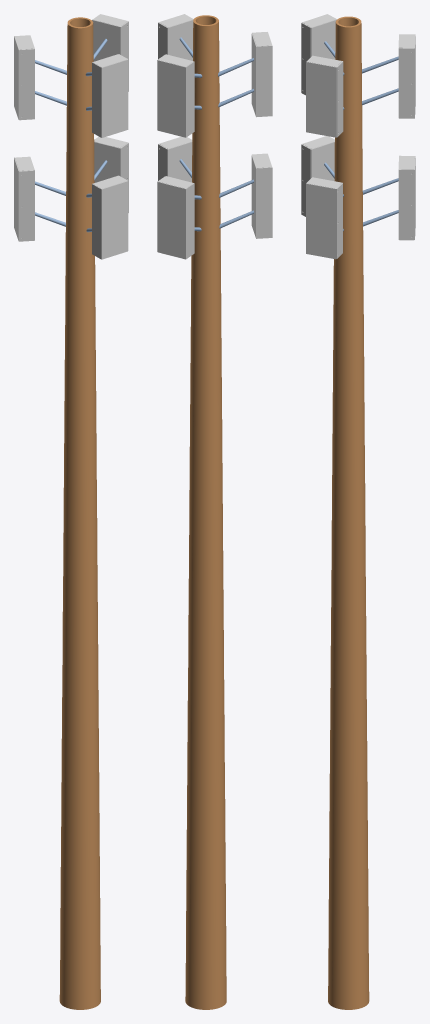
The model's file is signal-tower.gltf.
3 renders of one model, left to right at view 1: azimuth 30°, elevation 25°; view 2: azimuth 210°, elevation 25°; view 3: azimuth 330°, elevation 25°, orthographic.
Parts seen in each view (by area): view 1: 连接的实心几何图形 [216728], 低压开关板 - 非设备柜 400mmx652mm - 500 [216873], 低压开关板 - 非设备柜 400mmx652mm - 500 [216828], 低压开关板 - 非设备柜 400mmx652mm - 500 [216811], 低压开关板 - 非设备柜 400mmx652mm - 500 [216857], 低压开关板 - 非设备柜 400mmx652mm - 500 [216826], 低压开关板 - 非设备柜 400mmx652mm - 500 [216872]; view 2: 连接的实心几何图形 [216728], 低压开关板 - 非设备柜 400mmx652mm - 500 [216826], 低压开关板 - 非设备柜 400mmx652mm - 500 [216872], 低压开关板 - 非设备柜 400mmx652mm - 500 [216811], 低压开关板 - 非设备柜 400mmx652mm - 500 [216857], 低压开关板 - 非设备柜 400mmx652mm - 500 [216828], 低压开关板 - 非设备柜 400mmx652mm - 500 [216873]; view 3: 连接的实心几何图形 [216728], 低压开关板 - 非设备柜 400mmx652mm - 500 [216828], 低压开关板 - 非设备柜 400mmx652mm - 500 [216873], 低压开关板 - 非设备柜 400mmx652mm - 500 [216811], 低压开关板 - 非设备柜 400mmx652mm - 500 [216826], 低压开关板 - 非设备柜 400mmx652mm - 500 [216872], 低压开关板 - 非设备柜 400mmx652mm - 500 [216857].
Boxes of the visible parts, left/top/right/bottom form: 连接的实心几何图形 [216728]: left=59, top=17, right=100, bottom=1009; 低压开关板 - 非设备柜 400mmx652mm - 500 [216873]: left=92, top=175, right=128, bottom=259; 低压开关板 - 非设备柜 400mmx652mm - 500 [216828]: left=92, top=54, right=128, bottom=137; 低压开关板 - 非设备柜 400mmx652mm - 500 [216811]: left=14, top=35, right=34, bottom=120; 低压开关板 - 非设备柜 400mmx652mm - 500 [216857]: left=14, top=156, right=34, bottom=241; 低压开关板 - 非设备柜 400mmx652mm - 500 [216826]: left=92, top=14, right=128, bottom=91; 低压开关板 - 非设备柜 400mmx652mm - 500 [216872]: left=94, top=136, right=128, bottom=212; 连接的实心几何图形 [216728]: left=185, top=15, right=226, bottom=1009; 低压开关板 - 非设备柜 400mmx652mm - 500 [216826]: left=157, top=54, right=194, bottom=137; 低压开关板 - 非设备柜 400mmx652mm - 500 [216872]: left=157, top=176, right=194, bottom=259; 低压开关板 - 非设备柜 400mmx652mm - 500 [216811]: left=251, top=32, right=272, bottom=117; 低压开关板 - 非设备柜 400mmx652mm - 500 [216857]: left=251, top=153, right=272, bottom=238; 低压开关板 - 非设备柜 400mmx652mm - 500 [216828]: left=158, top=14, right=193, bottom=60; 低压开关板 - 非设备柜 400mmx652mm - 500 [216873]: left=158, top=136, right=192, bottom=182; 连接的实心几何图形 [216728]: left=328, top=16, right=369, bottom=1009; 低压开关板 - 非设备柜 400mmx652mm - 500 [216828]: left=306, top=55, right=343, bottom=137; 低压开关板 - 非设备柜 400mmx652mm - 500 [216873]: left=306, top=177, right=342, bottom=259; 低压开关板 - 非设备柜 400mmx652mm - 500 [216811]: left=301, top=14, right=336, bottom=95; 低压开关板 - 非设备柜 400mmx652mm - 500 [216826]: left=398, top=34, right=415, bottom=118; 低压开关板 - 非设备柜 400mmx652mm - 500 [216872]: left=398, top=155, right=415, bottom=240; 低压开关板 - 非设备柜 400mmx652mm - 500 [216857]: left=301, top=136, right=334, bottom=216.
Size of the model in its own units: 2.5 by 20.95 by 2.15.
